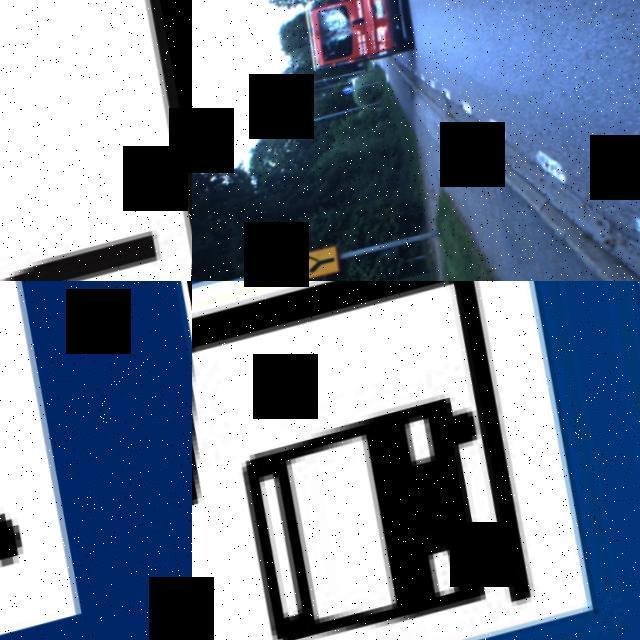170: (0, 0, 192, 281)
181: (300, 242, 348, 281)
57: (261, 252, 311, 281)
Bus stop: (192, 281, 640, 640)
Restaurant: (0, 281, 192, 640)
